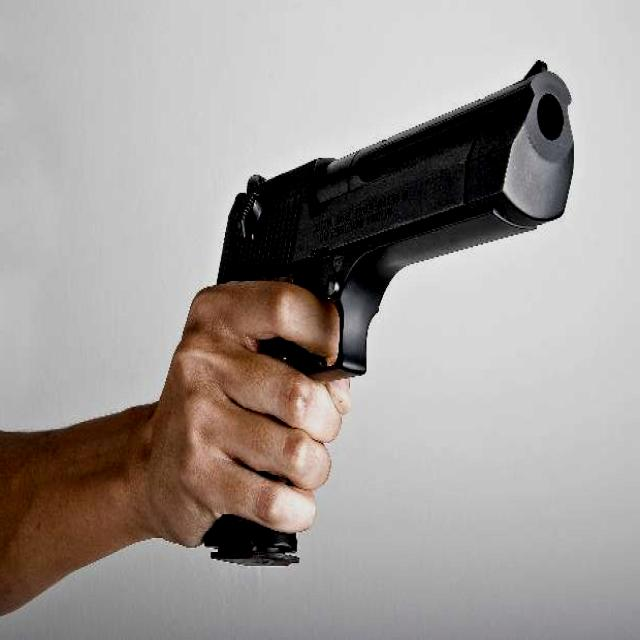pistol: (197, 58, 577, 564)
